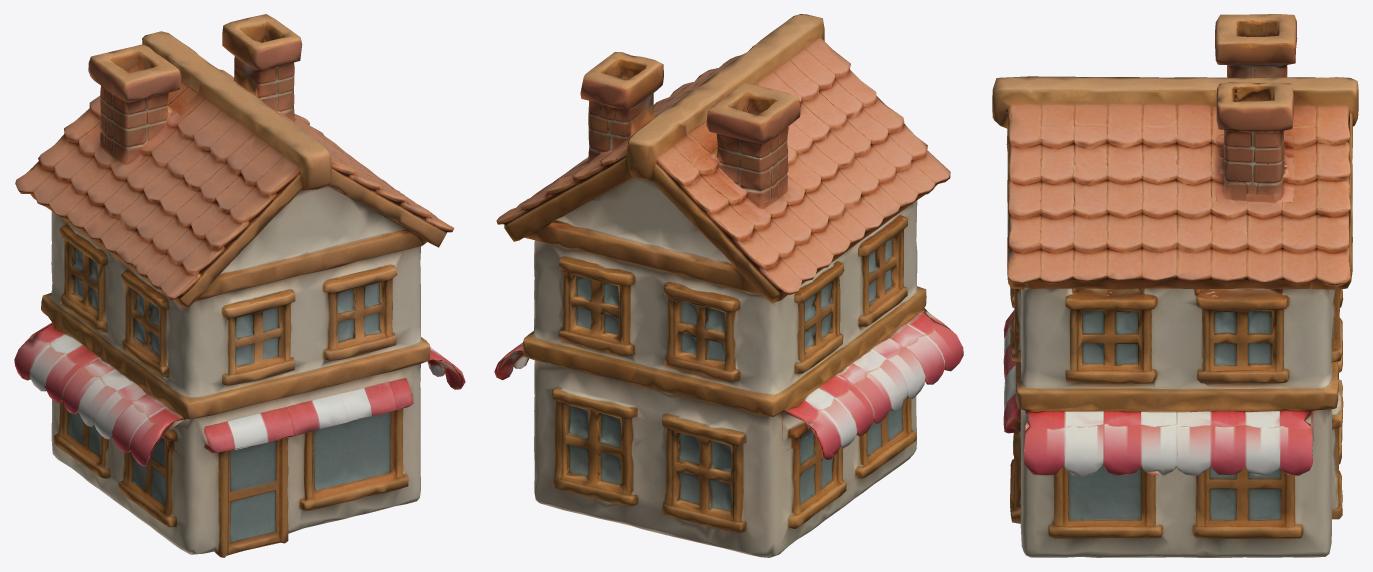
The model's file is P_TownCafe_h900.fbx.
3 views of the same model, side by side, from view 1: azimuth 30°, elevation 25°; view 2: azimuth 150°, elevation 25°; view 3: azimuth 270°, elevation 25° (orthographic). The views are drawn at different scales.
Parts seen in each view (by area): view 1: texture_mapping; view 2: texture_mapping; view 3: texture_mapping.
Boxes of the visible parts, x1,y1,x2,y2 form: texture_mapping: (14,14,465,557); texture_mapping: (494,14,963,557); texture_mapping: (992,14,1358,557).
Bounding box in the file's own units: 0.8152 × 0.7513 × 1.
Materials: 1 (1 with a texture image).
